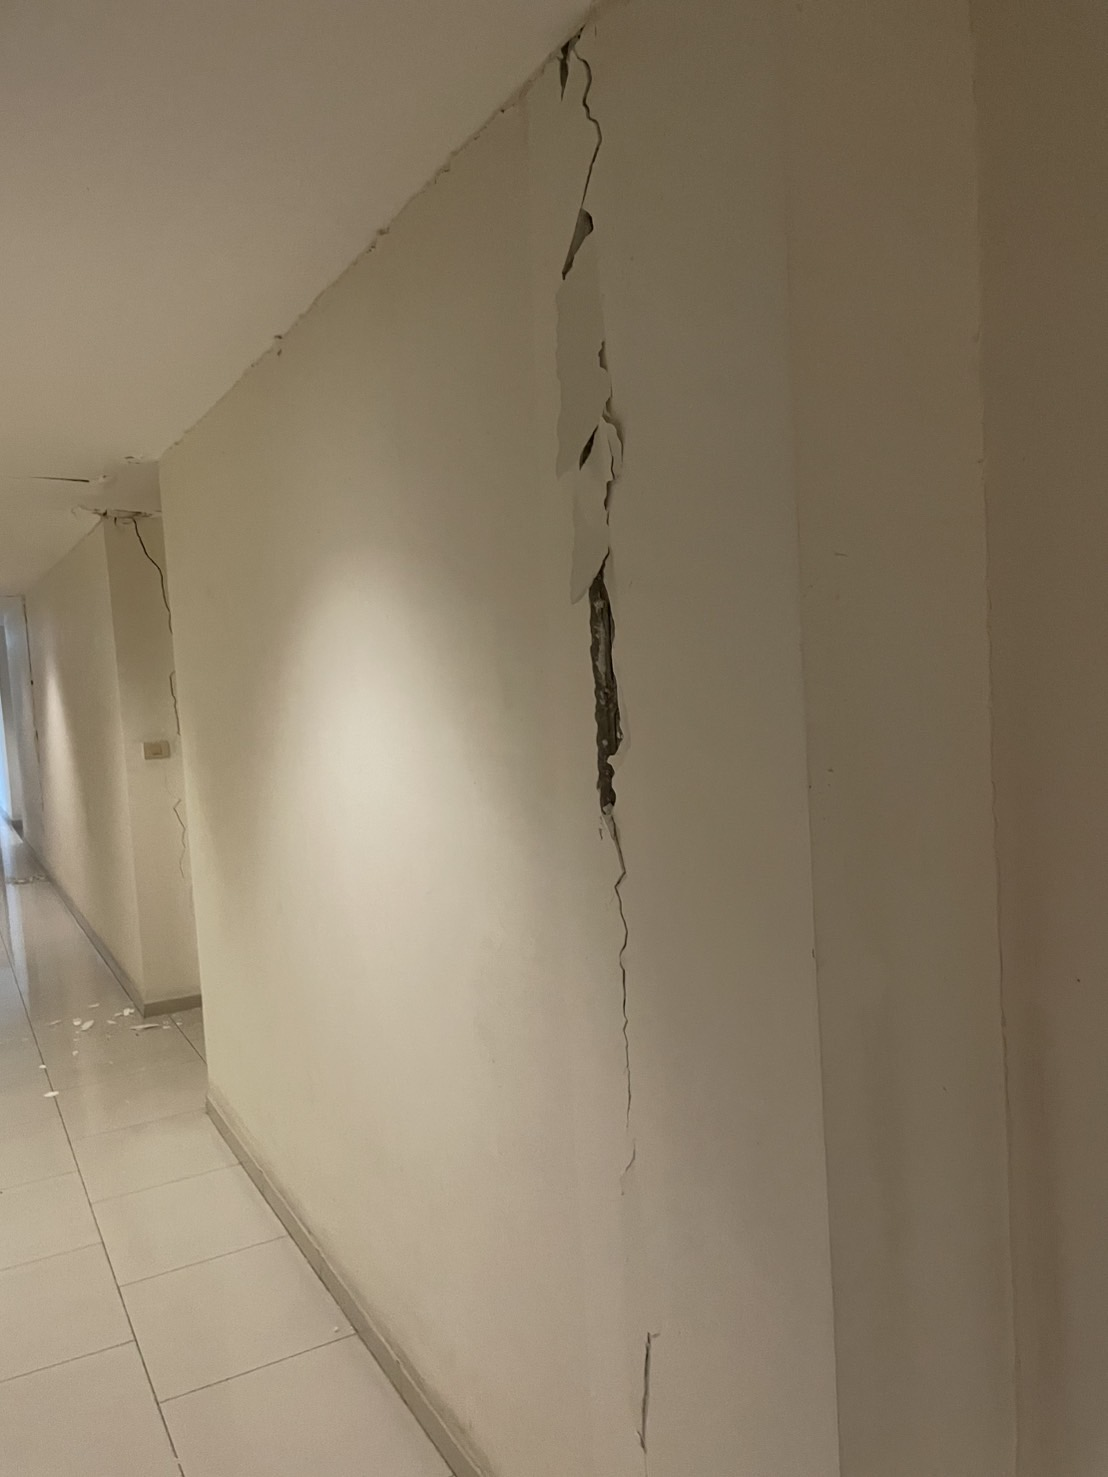Medium: (514, 141, 731, 1230)
